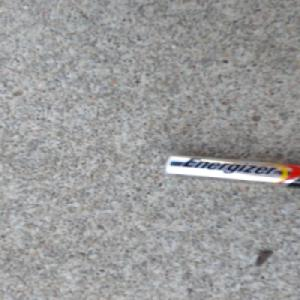Battery: (161, 150, 300, 189)
